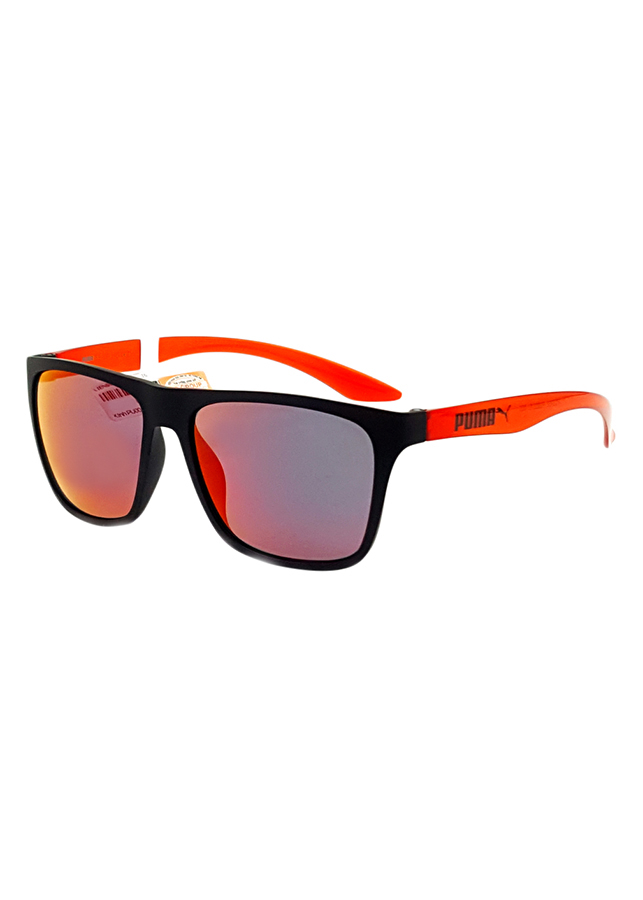Puma: (445, 397, 520, 435)
